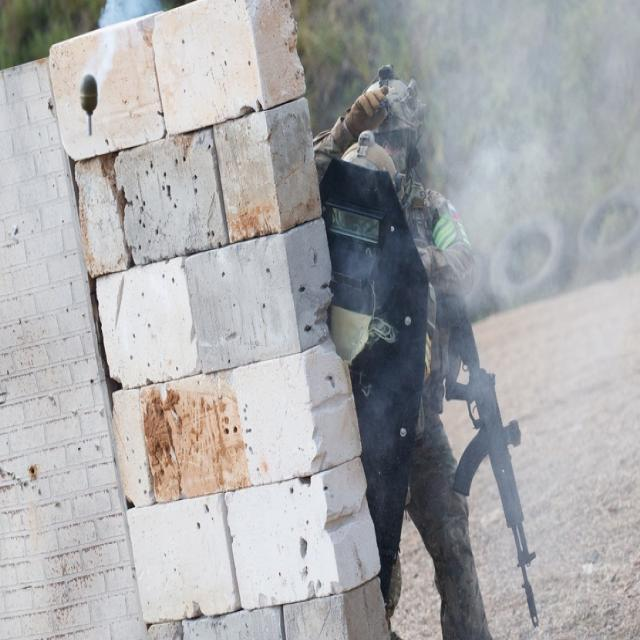firearm: (447, 306, 540, 625)
